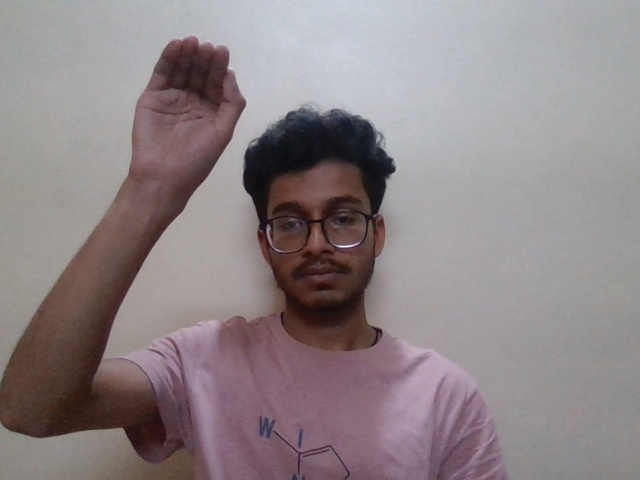sound: (125, 37, 250, 196)
